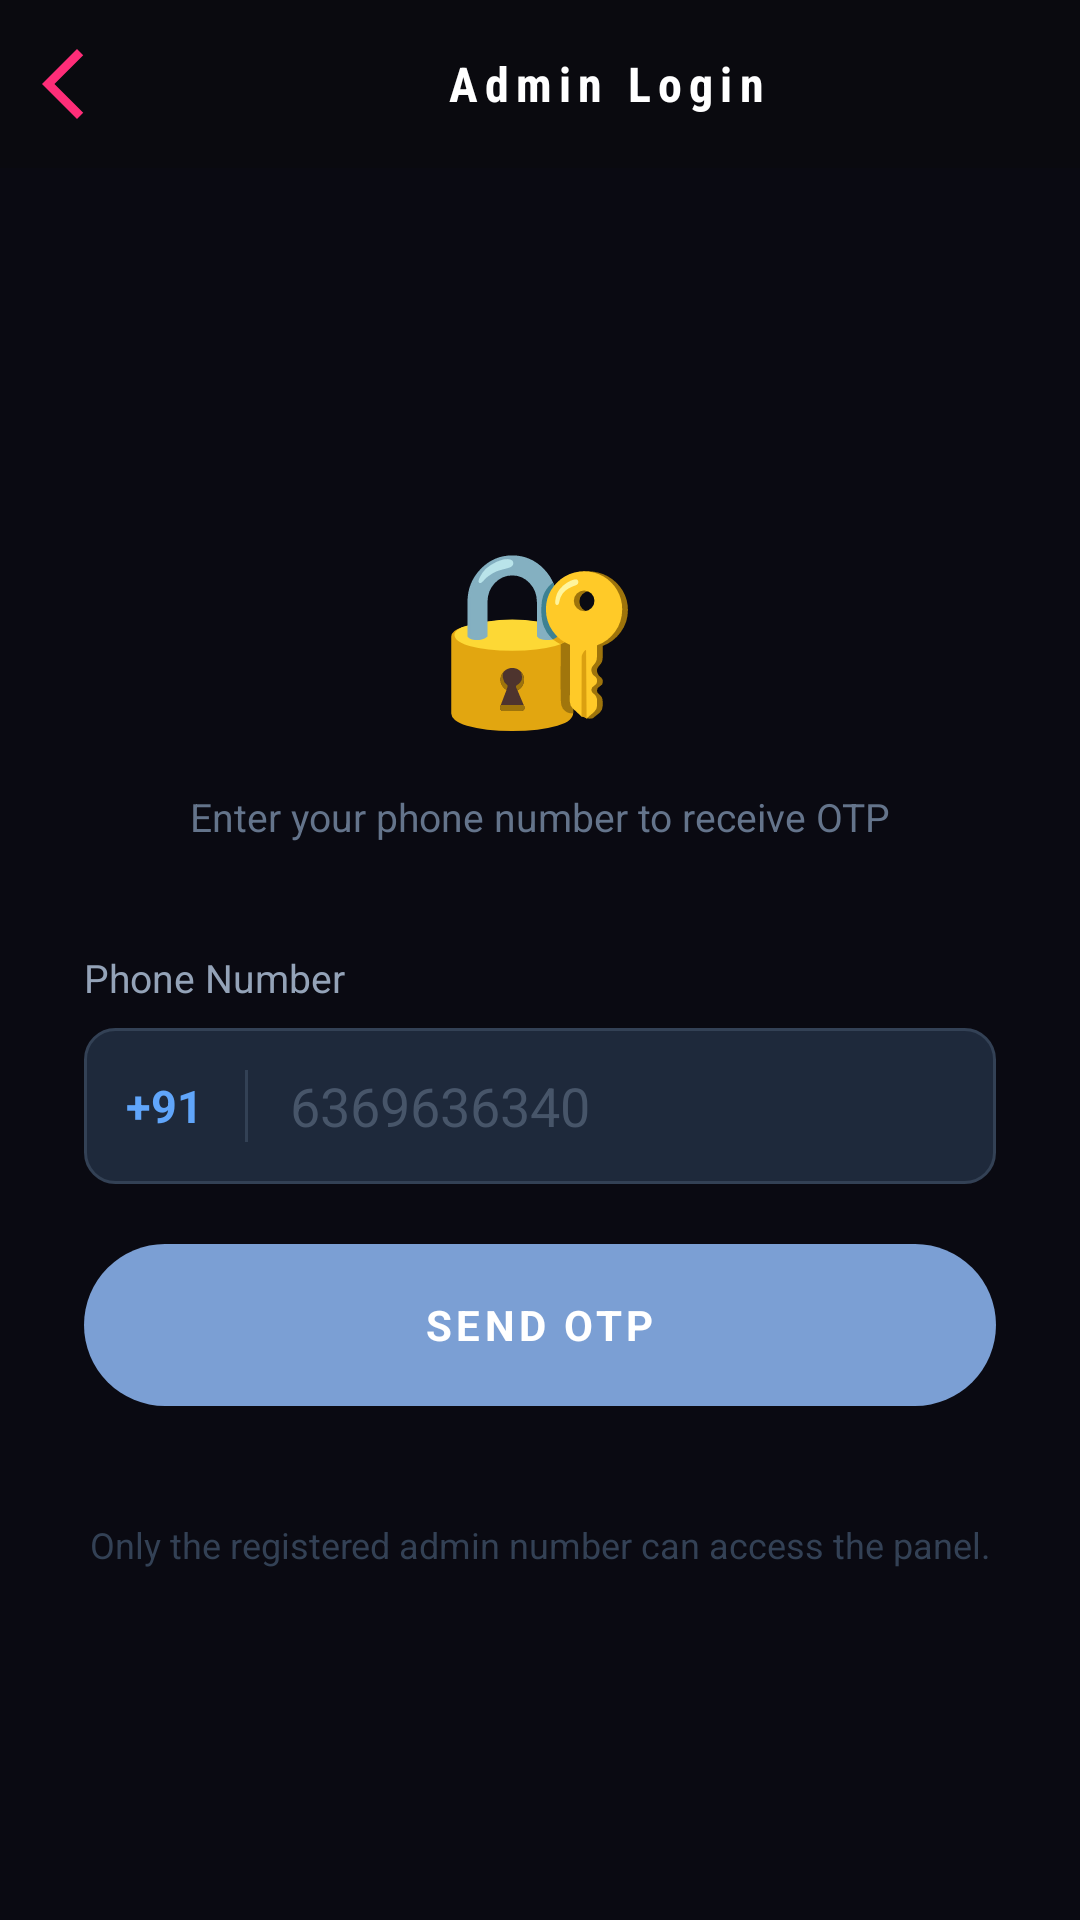

Where icons sit on this 1080px×1920px app screen, as BBox(x1, y1, x2, y2):
arrow back: BBox(42, 49, 83, 119)
